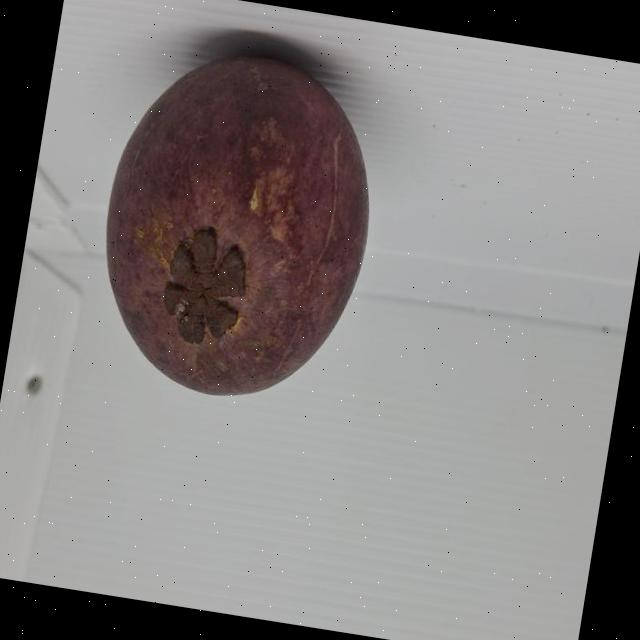mangosteen: (41, 0, 492, 472)
